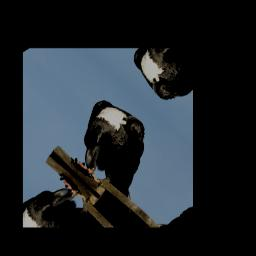Crow: (58, 87, 172, 209)
